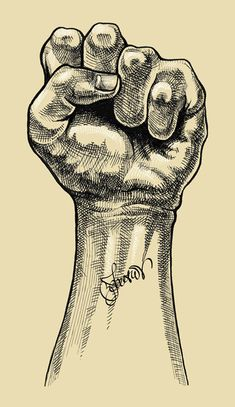fist: (24, 24, 192, 216)
